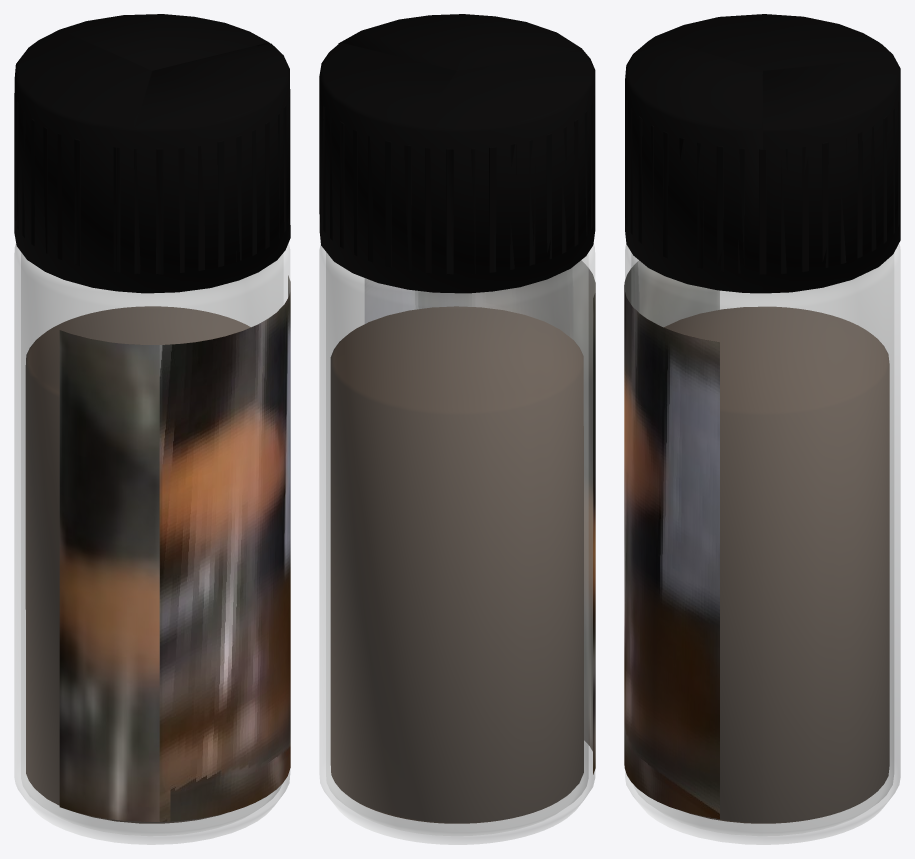
3 views of the same model, side by side, from view 1: azimuth 30°, elevation 25°; view 2: azimuth 150°, elevation 25°; view 3: azimuth 270°, elevation 25° (orthographic).
Parts seen in each view (by area): view 1: small_grinder__body, small_grinder__cap; view 2: small_grinder__body, small_grinder__cap; view 3: small_grinder__body, small_grinder__cap.
Boxes of the visible parts, <box> form: small_grinder__body: <box>14,243,290,844</box>; small_grinder__cap: <box>14,14,290,293</box>; small_grinder__body: <box>319,244,595,844</box>; small_grinder__cap: <box>319,14,595,293</box>; small_grinder__body: <box>624,244,900,844</box>; small_grinder__cap: <box>625,14,900,293</box>.
Bounding box in the file's own units: 0.0476 × 0.1371 × 0.0477.
4 materials, 1 textured.
